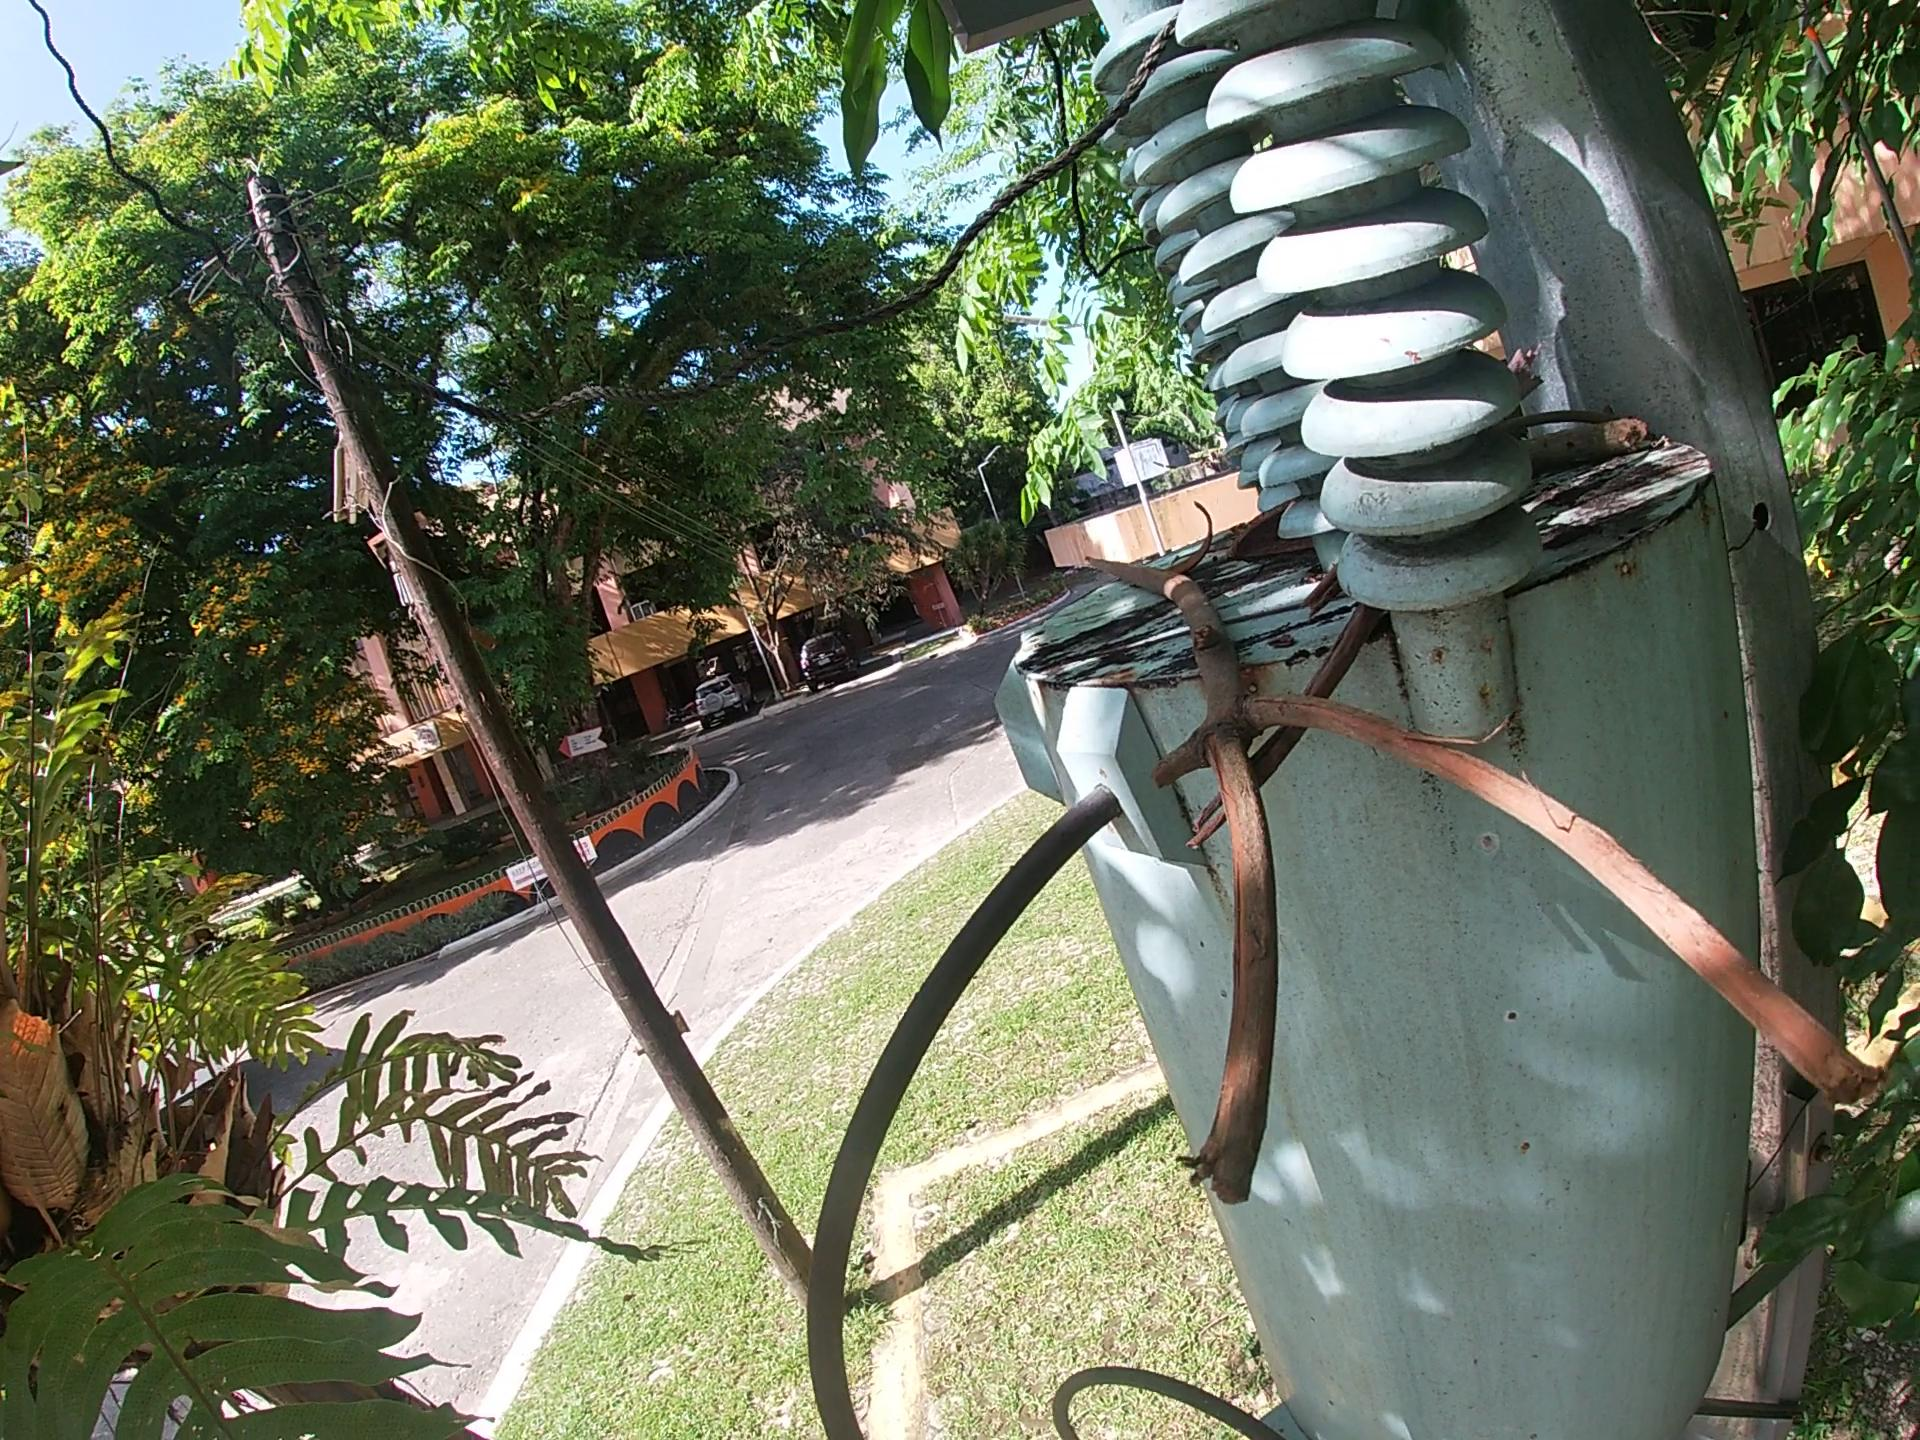mahogany fruit: (1223, 499, 1320, 570), (1181, 493, 1225, 578)
tree branch: (1067, 548, 1894, 1215), (1181, 561, 1394, 856), (1509, 401, 1658, 481)
